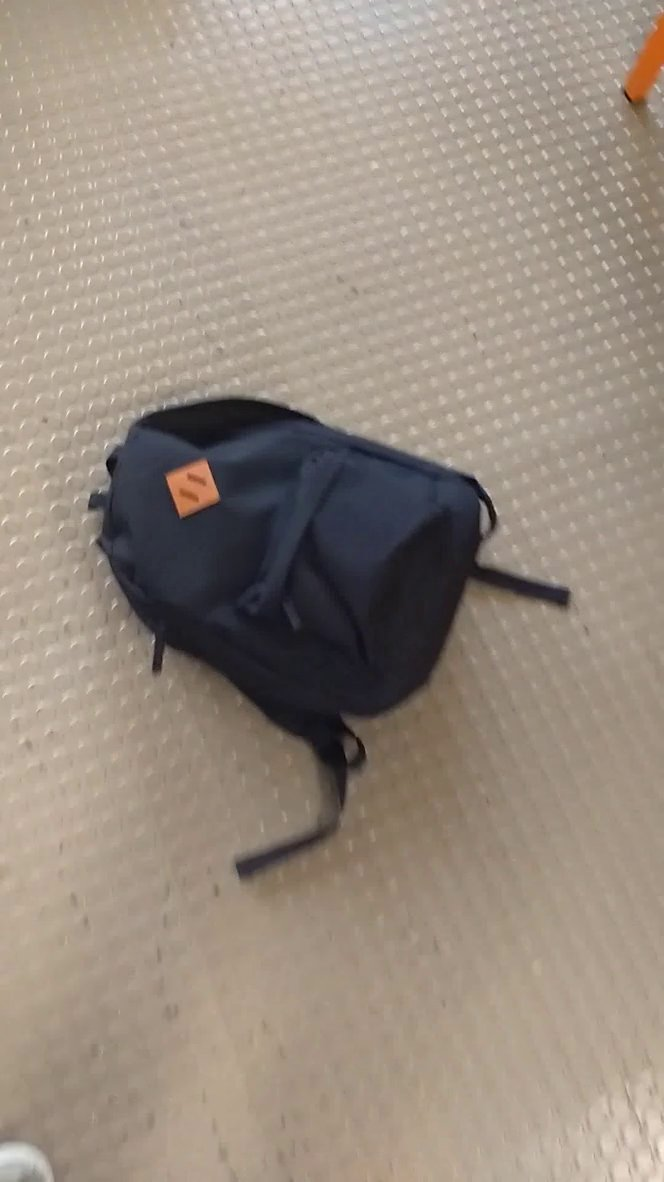bag: (86, 389, 600, 891)
